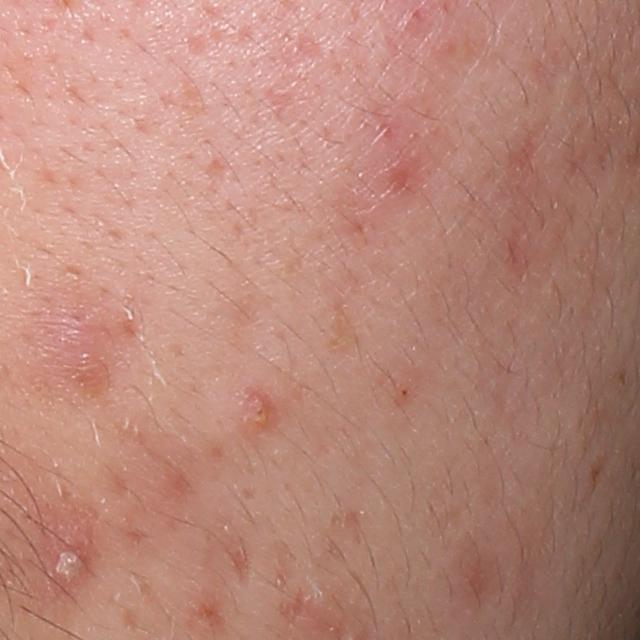papule: (242, 389, 276, 431)
